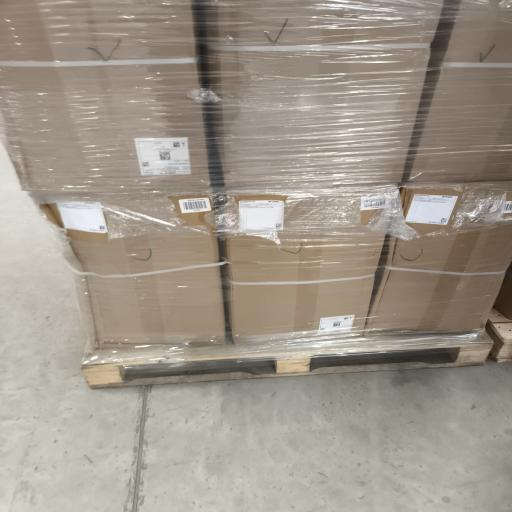pallet: (83, 335, 492, 387), (487, 309, 511, 362)
